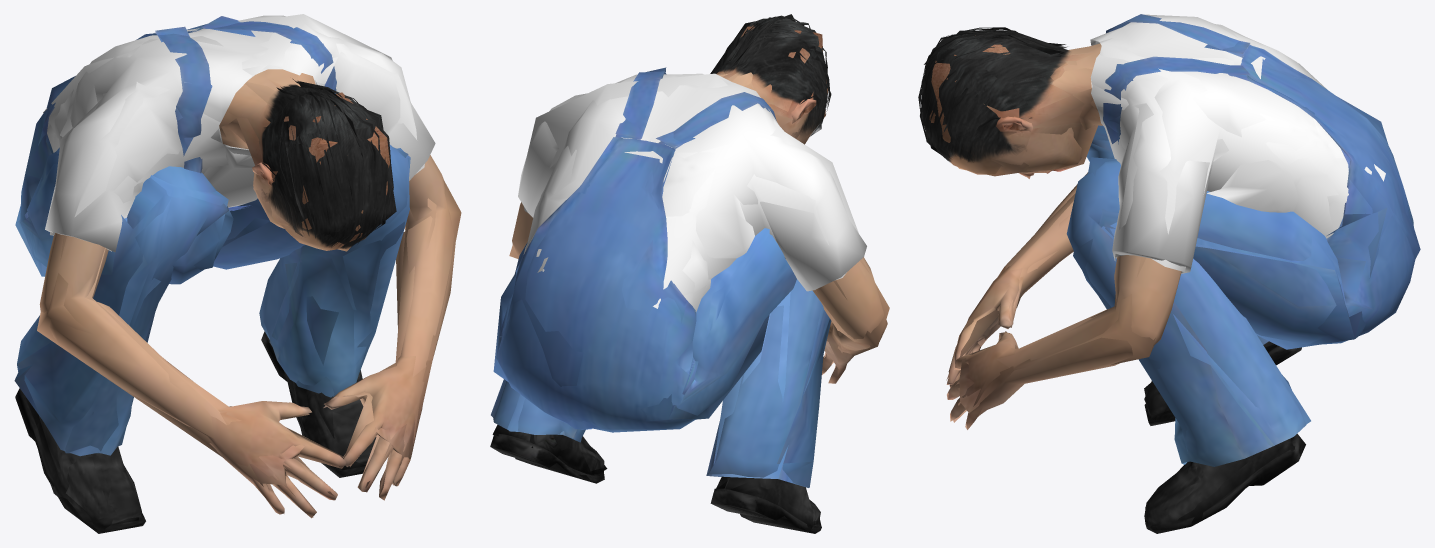
Rendered from frozen-2.glb.
3 views of the same model, side by side, from view 1: azimuth 30°, elevation 25°; view 2: azimuth 150°, elevation 25°; view 3: azimuth 270°, elevation 25° (orthographic). The views are drawn at different scales.
Visible parts, largest first — view 1: near, far; view 2: near, far; view 3: near, far.
Boxes of the visible parts, x1,y1,x2,y2 form: near: (15, 15, 455, 533); far: (14, 14, 461, 531); near: (490, 16, 887, 533); far: (491, 14, 889, 531); near: (918, 14, 1415, 533); far: (921, 22, 1420, 529).
Bounding box in the file's own units: 0.617 × 0.6762 × 0.697.
Materials: 2 (2 with a texture image).
